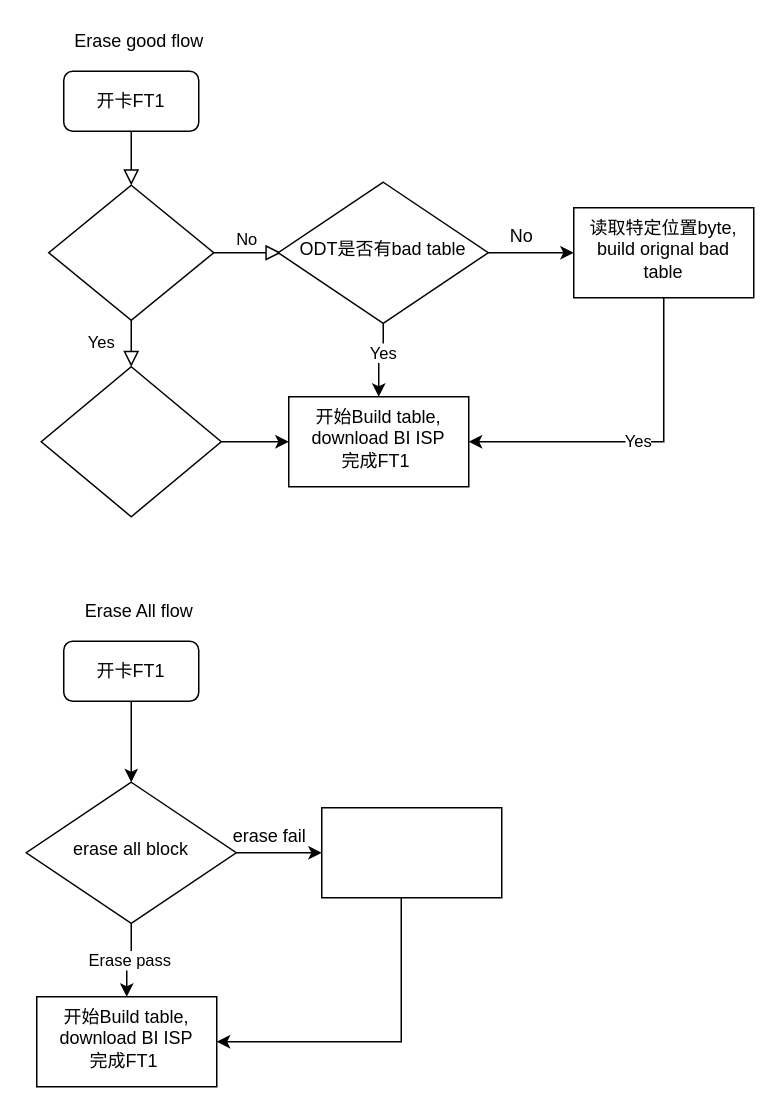
Some shapes in this 780 by 1113 pixel diagram are drawn without their labels. Each missing label, with the centre of its shape:
"fail 的mark 为orignal bad" goes at pixel 411 852.
"判断是否开过卡" goes at pixel 130 252.
"参考以往的bad block table" goes at pixel 130 441.
